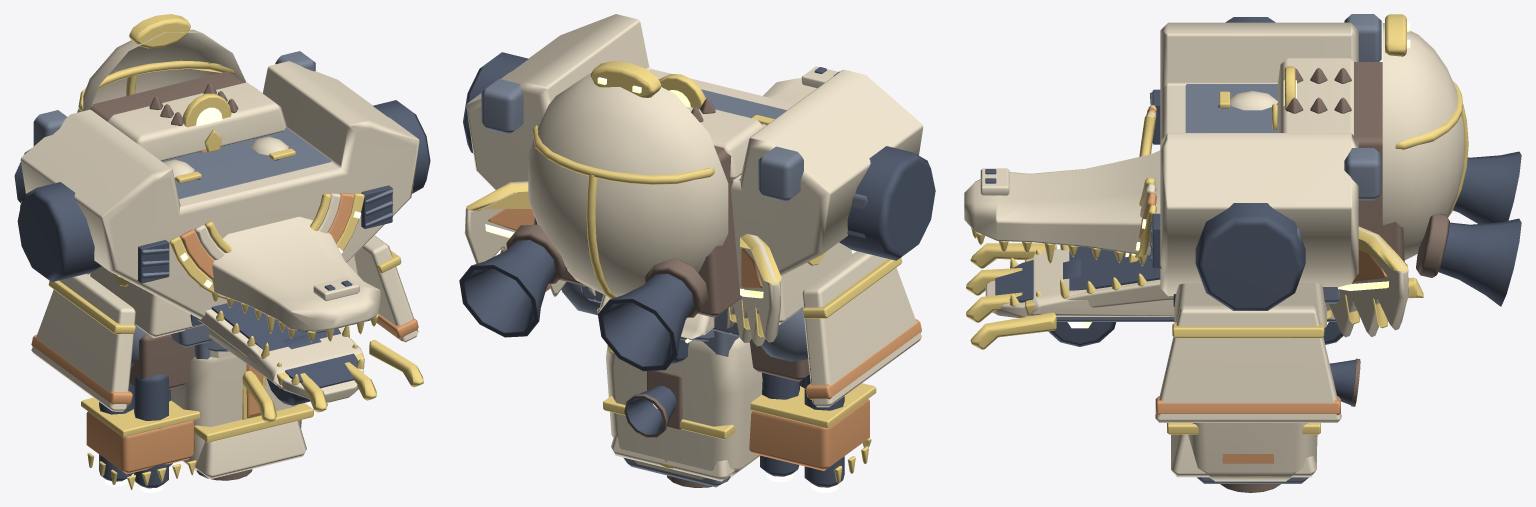
File: sobek.glb
3 views of the same model, side by side, from view 1: azimuth 30°, elevation 25°; view 2: azimuth 150°, elevation 25°; view 3: azimuth 270°, elevation 25° (orthographic). The views are drawn at different scales.
Visible parts, largest first — view 1: chest/P, head/P, hips/P, chest/D, chest/K, chest/T, hipL/P, elR/S, kneeL/P, head/D, head/T, ankleL/T (+12 smaller); view 2: chest/P, chest/D, hipL/P, hips/P, chest/F, chest/K, elR/S, chest/T, hips/K, elR/T, wingR/P, elR/D (+17 smaller); view 3: chest/P, chest/D, head/P, hips/P, chest/K, chest/F, hipL/P, ankleL/T, head/D, ankleL/P, wingL/P, chest/T (+10 smaller).
Boxes of the visible parts, x1=… form: chest/P: x1=20, y1=29, x2=419, y2=319; head/P: x1=163, y1=136, x2=380, y2=402; hips/P: x1=31, y1=235, x2=418, y2=411; chest/D: x1=14, y1=100, x2=430, y2=283; chest/K: x1=33, y1=51, x2=392, y2=278; chest/T: x1=78, y1=14, x2=364, y2=313; hipL/P: x1=170, y1=355, x2=301, y2=471; elR/S: x1=86, y1=411, x2=194, y2=474; kneeL/P: x1=195, y1=420, x2=306, y2=479; head/D: x1=196, y1=159, x2=370, y2=388; head/T: x1=175, y1=93, x2=378, y2=388; ankleL/T: x1=242, y1=340, x2=423, y2=422; chest/P: x1=466, y1=14, x2=923, y2=297; chest/D: x1=459, y1=52, x2=935, y2=371; hipL/P: x1=606, y1=337, x2=762, y2=479; hips/P: x1=500, y1=251, x2=921, y2=407; chest/F: x1=506, y1=98, x2=741, y2=317; chest/K: x1=481, y1=79, x2=867, y2=238; elR/S: x1=749, y1=399, x2=869, y2=470; chest/T: x1=532, y1=61, x2=714, y2=298; hips/K: x1=561, y1=282, x2=808, y2=361; elR/T: x1=750, y1=383, x2=876, y2=483; wingR/P: x1=727, y1=234, x2=780, y2=346; elR/D: x1=760, y1=372, x2=844, y2=487; chest/P: x1=1140, y1=22, x2=1464, y2=296; chest/D: x1=1152, y1=17, x2=1521, y2=310; head/P: x1=964, y1=90, x2=1277, y2=317; hips/P: x1=1155, y1=305, x2=1341, y2=422; chest/K: x1=1149, y1=14, x2=1381, y2=303; chest/F: x1=1286, y1=62, x2=1449, y2=277; hipL/P: x1=1188, y1=423, x2=1317, y2=481; ankleL/T: x1=966, y1=243, x2=1423, y2=349; head/D: x1=985, y1=105, x2=1219, y2=302; ankleL/P: x1=1026, y1=246, x2=1334, y2=319; wingL/P: x1=1326, y1=227, x2=1408, y2=337; chest/T: x1=1129, y1=14, x2=1468, y2=262.
Size of the model in its own units: 4.42 by 4.6 by 5.06.
